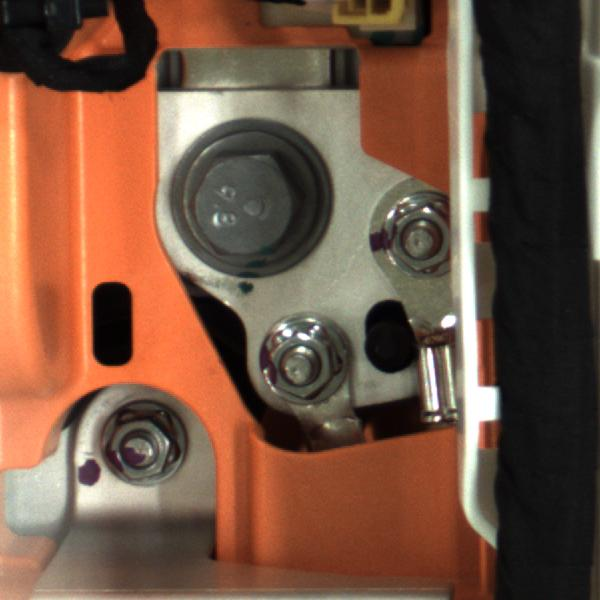nut_b: (161, 136, 334, 279)
screw_s: (98, 396, 192, 501), (358, 190, 450, 286), (244, 314, 336, 401)
